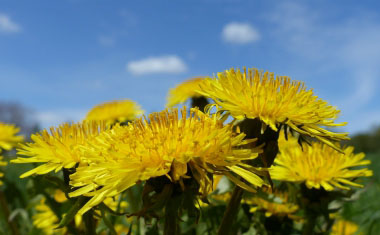dandelion: (93, 122, 233, 189), (206, 64, 336, 126), (283, 135, 368, 199), (26, 124, 95, 172)
